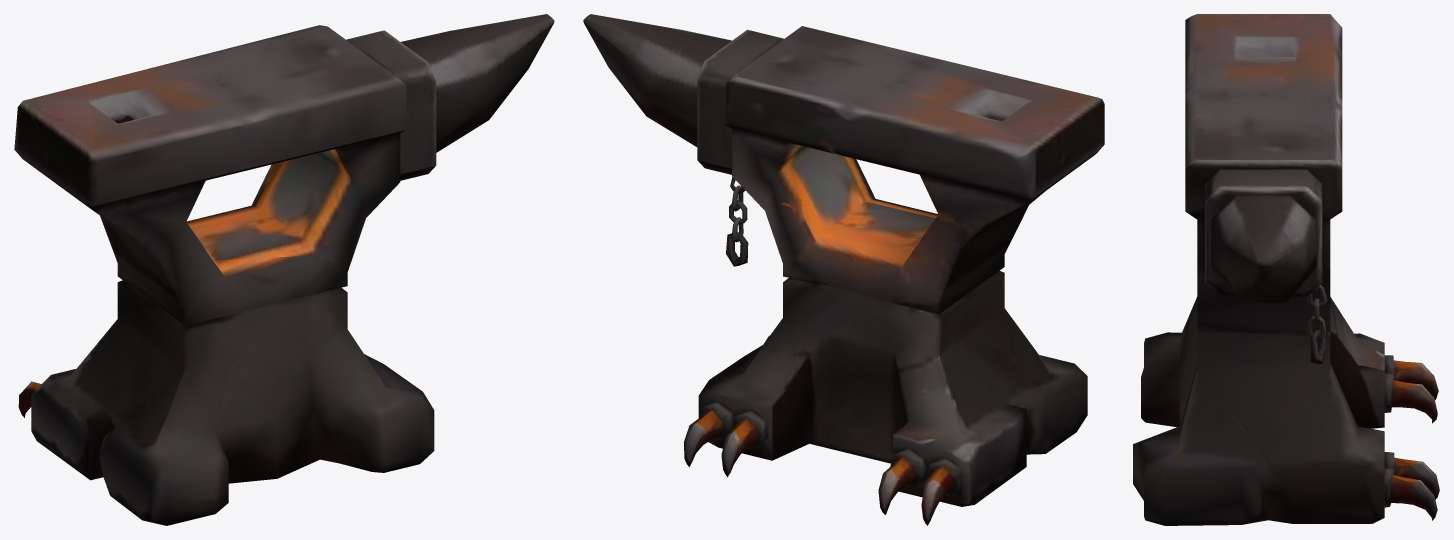
Rendered from infernal_forge_anvil.glb.
3 renders of one model, left to right at view 1: azimuth 30°, elevation 25°; view 2: azimuth 150°, elevation 25°; view 3: azimuth 270°, elevation 25°, orthographic. The views are drawn at different scales.
Parts seen in each view (by area): view 1: tripo_node_a62a8cc0-3ec4-4cd4-9b18-193e869b1d6b; view 2: tripo_node_a62a8cc0-3ec4-4cd4-9b18-193e869b1d6b; view 3: tripo_node_a62a8cc0-3ec4-4cd4-9b18-193e869b1d6b.
Boxes of the visible parts, left/top/right/bottom form: tripo_node_a62a8cc0-3ec4-4cd4-9b18-193e869b1d6b: left=14, top=14, right=554, bottom=525; tripo_node_a62a8cc0-3ec4-4cd4-9b18-193e869b1d6b: left=583, top=14, right=1104, bottom=525; tripo_node_a62a8cc0-3ec4-4cd4-9b18-193e869b1d6b: left=1133, top=14, right=1439, bottom=525.
Size of the model in its own units: 1.91 by 1.35 by 1.04.
1 material, 1 textured.
